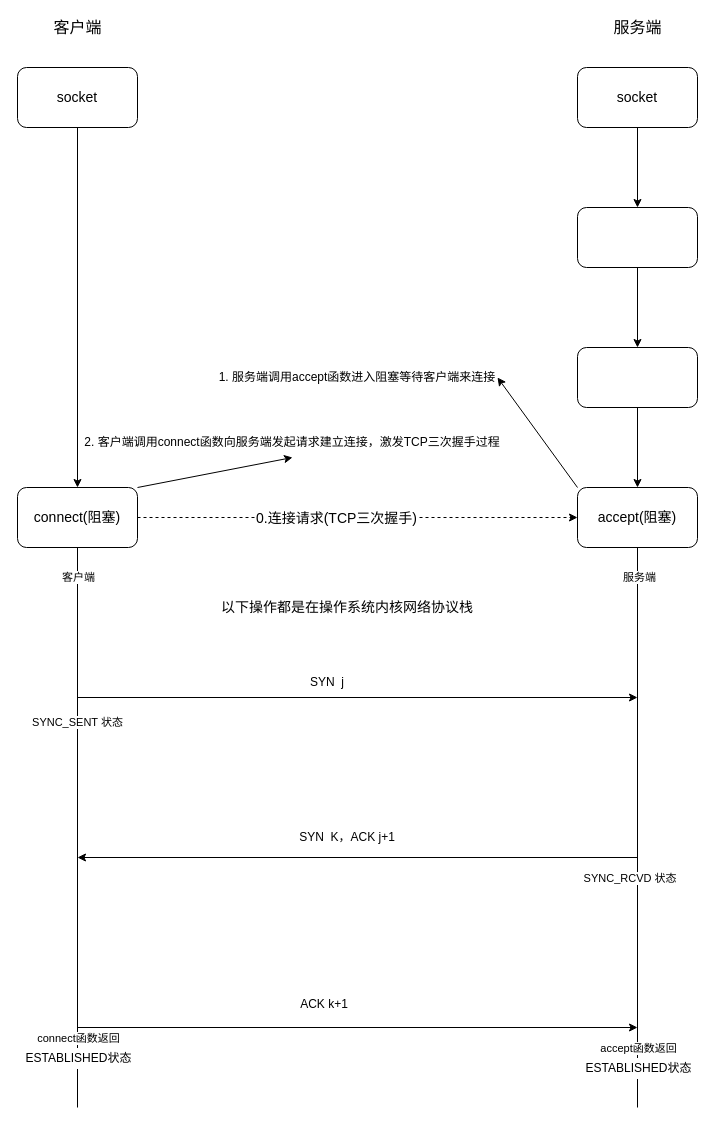
The diagram is 715 pixels wide and 1126 high, and some of its shapes have lost their labels. Here are the shapes that lost their labels. From the top down, the centre of each, then its label:
the point at 637,237: bind
the point at 637,377: listen
